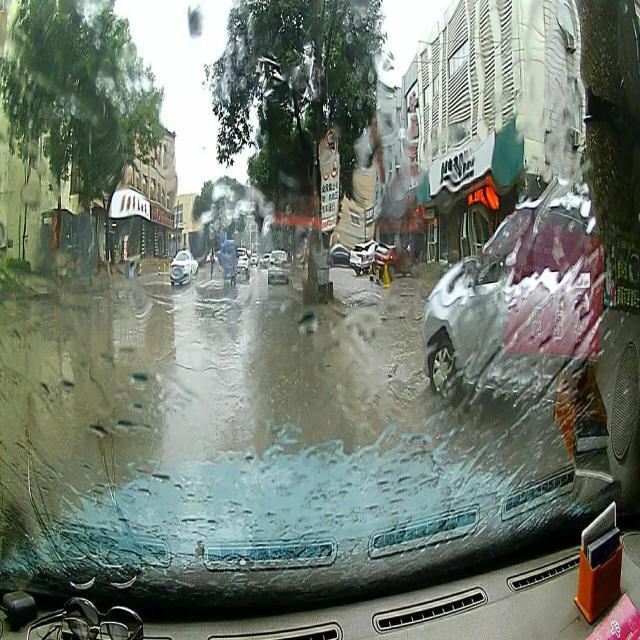car: (426, 188, 618, 405), (170, 250, 198, 285), (266, 249, 290, 282), (236, 244, 249, 280)
